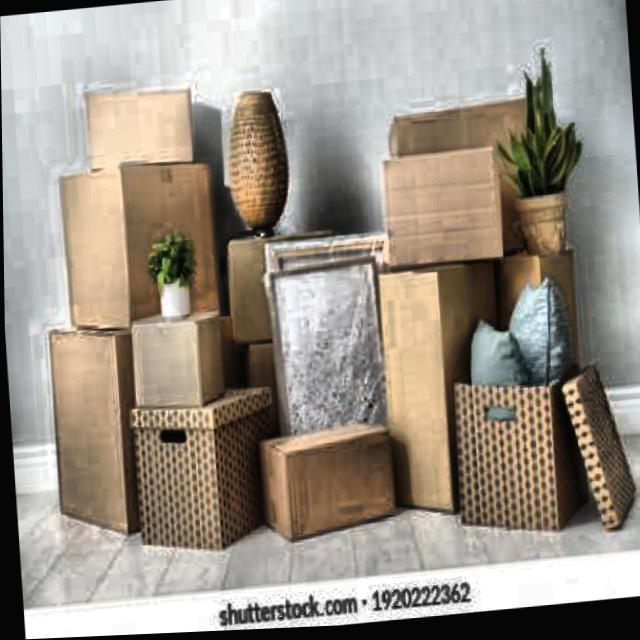Cardbox: (373, 61, 595, 277), (58, 156, 233, 345), (45, 308, 156, 562), (259, 414, 408, 560), (86, 87, 193, 173)
